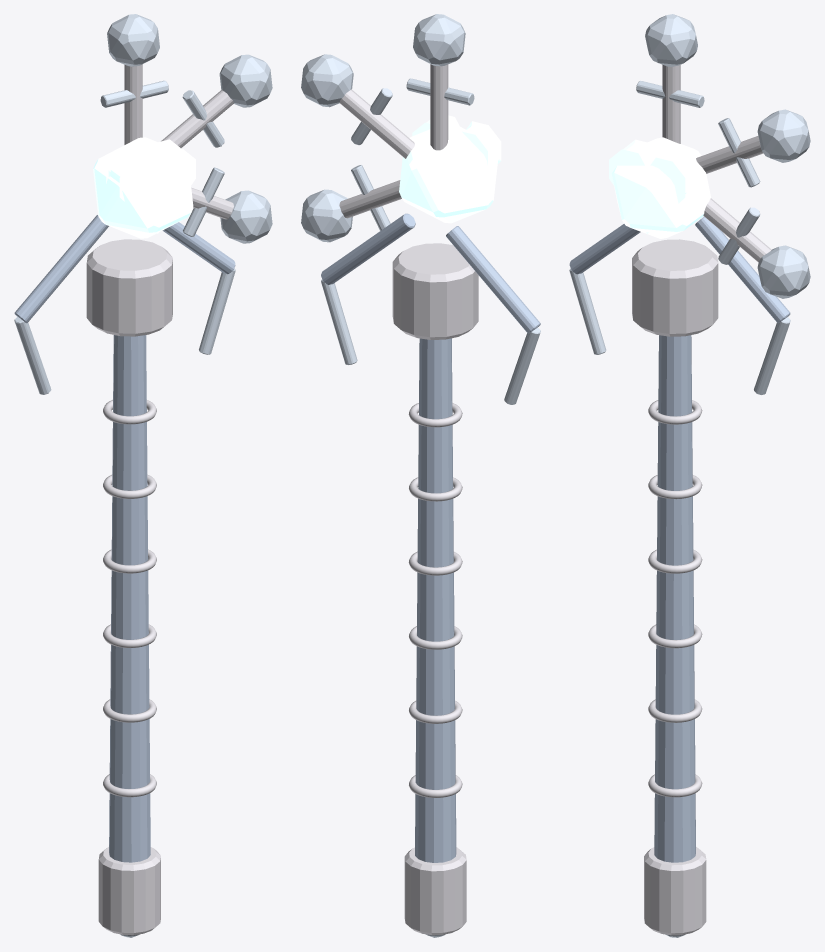
The model's file is mage-staff-08-snow-crystal-princess.glb.
3 views of the same model, side by side, from view 1: azimuth 30°, elevation 25°; view 2: azimuth 150°, elevation 25°; view 3: azimuth 330°, elevation 25° (orthographic).
Visible parts, largest first — view 1: mage-staff-08-snow-crystal-princess_WoodenShaft, mage-staff-08-snow-crystal-princess_CrownCollar, mage-staff-08-snow-crystal-princess_CrownStar, mage-staff-08-snow-crystal-princess_LowerFerrule, mage-staff-08-snow-crystal-princess_SnowflakeTip_1, mage-staff-08-snow-crystal-princess_SnowRibbon_-1_A, mage-staff-08-snow-crystal-princess_SnowflakeTip_2, mage-staff-08-snow-crystal-princess_SnowflakeTip_3, mage-staff-08-snow-crystal-princess_SnowHeartOrb, mage-staff-08-snow-crystal-princess_SnowflakeArm_1, mage-staff-08-snow-crystal-princess_SnowflakeArm_2, mage-staff-08-snow-crystal-princess_SnowRibbon_1_A (+9 smaller); view 2: mage-staff-08-snow-crystal-princess_WoodenShaft, mage-staff-08-snow-crystal-princess_CrownCollar, mage-staff-08-snow-crystal-princess_CrownStar, mage-staff-08-snow-crystal-princess_LowerFerrule, mage-staff-08-snow-crystal-princess_SnowRibbon_-1_A, mage-staff-08-snow-crystal-princess_SnowflakeTip_1, mage-staff-08-snow-crystal-princess_SnowflakeTip_2, mage-staff-08-snow-crystal-princess_SnowflakeTip_3, mage-staff-08-snow-crystal-princess_SnowRibbon_1_A, mage-staff-08-snow-crystal-princess_SnowflakeArm_2, mage-staff-08-snow-crystal-princess_SnowflakeArm_1, mage-staff-08-snow-crystal-princess_SnowflakeArm_3 (+9 smaller); view 3: mage-staff-08-snow-crystal-princess_WoodenShaft, mage-staff-08-snow-crystal-princess_CrownCollar, mage-staff-08-snow-crystal-princess_CrownStar, mage-staff-08-snow-crystal-princess_LowerFerrule, mage-staff-08-snow-crystal-princess_SnowflakeTip_2, mage-staff-08-snow-crystal-princess_SnowflakeTip_3, mage-staff-08-snow-crystal-princess_SnowflakeTip_1, mage-staff-08-snow-crystal-princess_SnowHeartOrb, mage-staff-08-snow-crystal-princess_SnowRibbon_1_A, mage-staff-08-snow-crystal-princess_SnowflakeArm_3, mage-staff-08-snow-crystal-princess_SnowflakeArm_1, mage-staff-08-snow-crystal-princess_SnowRibbon_-1_A (+9 smaller).
Part boxes in pixels (<box>): mage-staff-08-snow-crystal-princess_WoodenShaft: <box>109,335,150,862</box>; mage-staff-08-snow-crystal-princess_CrownCollar: <box>86,239,172,336</box>; mage-staff-08-snow-crystal-princess_CrownStar: <box>93,137,193,238</box>; mage-staff-08-snow-crystal-princess_LowerFerrule: <box>98,847,160,935</box>; mage-staff-08-snow-crystal-princess_SnowflakeTip_1: <box>107,14,159,66</box>; mage-staff-08-snow-crystal-princess_SnowRibbon_-1_A: <box>14,215,108,323</box>; mage-staff-08-snow-crystal-princess_SnowflakeTip_2: <box>219,54,272,107</box>; mage-staff-08-snow-crystal-princess_SnowflakeTip_3: <box>220,190,272,243</box>; mage-staff-08-snow-crystal-princess_SnowHeartOrb: <box>106,139,195,233</box>; mage-staff-08-snow-crystal-princess_SnowflakeArm_1: <box>124,64,142,144</box>; mage-staff-08-snow-crystal-princess_SnowflakeArm_2: <box>161,90,233,147</box>; mage-staff-08-snow-crystal-princess_SnowRibbon_1_A: <box>162,222,235,274</box>; mage-staff-08-snow-crystal-princess_WoodenShaft: <box>415,338,456,862</box>; mage-staff-08-snow-crystal-princess_CrownCollar: <box>392,243,478,339</box>; mage-staff-08-snow-crystal-princess_CrownStar: <box>399,122,498,223</box>; mage-staff-08-snow-crystal-princess_LowerFerrule: <box>404,847,466,935</box>; mage-staff-08-snow-crystal-princess_SnowRibbon_-1_A: <box>446,226,540,333</box>; mage-staff-08-snow-crystal-princess_SnowflakeTip_1: <box>413,14,465,66</box>; mage-staff-08-snow-crystal-princess_SnowflakeTip_2: <box>301,54,353,107</box>; mage-staff-08-snow-crystal-princess_SnowflakeTip_3: <box>301,189,352,242</box>; mage-staff-08-snow-crystal-princess_SnowRibbon_1_A: <box>321,213,415,284</box>; mage-staff-08-snow-crystal-princess_SnowflakeArm_2: <box>339,89,414,158</box>; mage-staff-08-snow-crystal-princess_SnowflakeArm_1: <box>430,64,448,150</box>; mage-staff-08-snow-crystal-princess_SnowflakeArm_3: <box>339,180,401,218</box>; mage-staff-08-snow-crystal-princess_WoodenShaft: <box>654,335,695,862</box>; mage-staff-08-snow-crystal-princess_CrownCollar: <box>632,239,718,336</box>; mage-staff-08-snow-crystal-princess_CrownStar: <box>611,137,710,238</box>; mage-staff-08-snow-crystal-princess_LowerFerrule: <box>644,847,706,935</box>; mage-staff-08-snow-crystal-princess_SnowflakeTip_2: <box>757,109,810,162</box>; mage-staff-08-snow-crystal-princess_SnowflakeTip_3: <box>757,245,810,298</box>; mage-staff-08-snow-crystal-princess_SnowflakeTip_1: <box>645,14,697,66</box>; mage-staff-08-snow-crystal-princess_SnowHeartOrb: <box>609,139,698,233</box>; mage-staff-08-snow-crystal-princess_SnowRibbon_1_A: <box>695,216,790,323</box>; mage-staff-08-snow-crystal-princess_SnowflakeArm_3: <box>703,198,771,262</box>; mage-staff-08-snow-crystal-princess_SnowflakeArm_1: <box>662,64,680,143</box>; mage-staff-08-snow-crystal-princess_SnowRibbon_-1_A: <box>569,224,640,274</box>.
Size of the model in its own units: 0.5856 by 2.1 by 0.2442.
